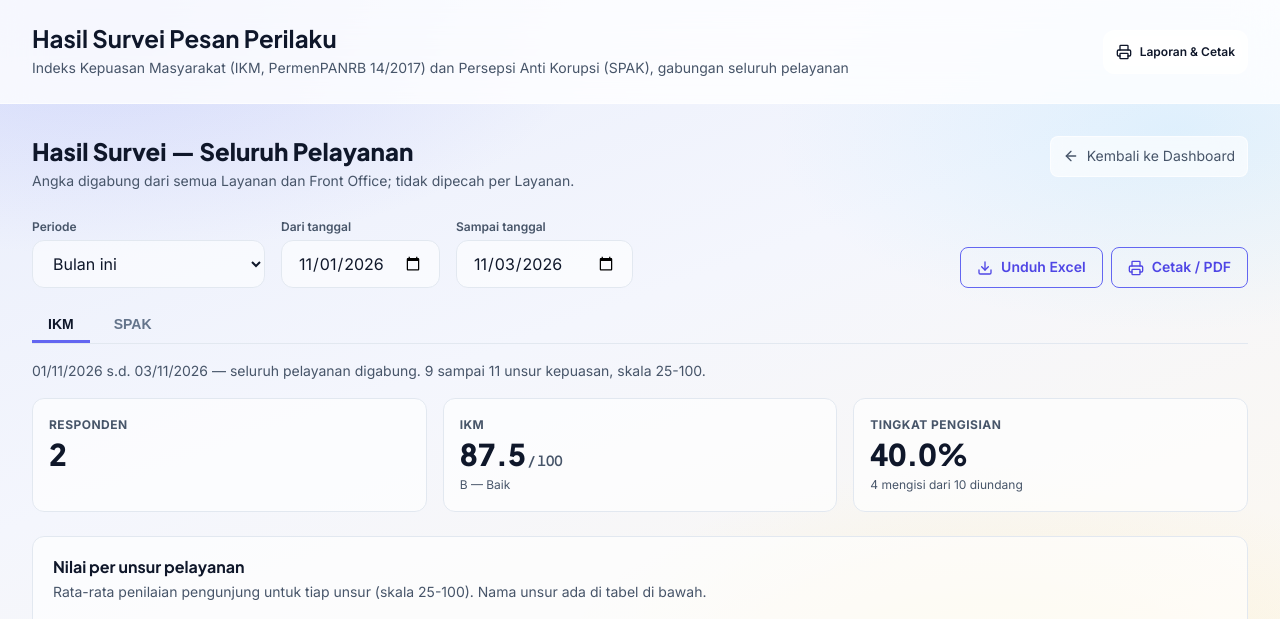
Test: Hasil Survei: admin dan Front Office (global) › tab SPAK: dashboard persen (setuju/netral/tidak setuju), indeks, dan tabel per pernyataan
The image size is (1280, 619).
Expected: the heading "Nilai per unsur pelayanan" is shown, [53,556,244,576]
Click the tab "SPAK": click(133, 325) [98,308,168,343]
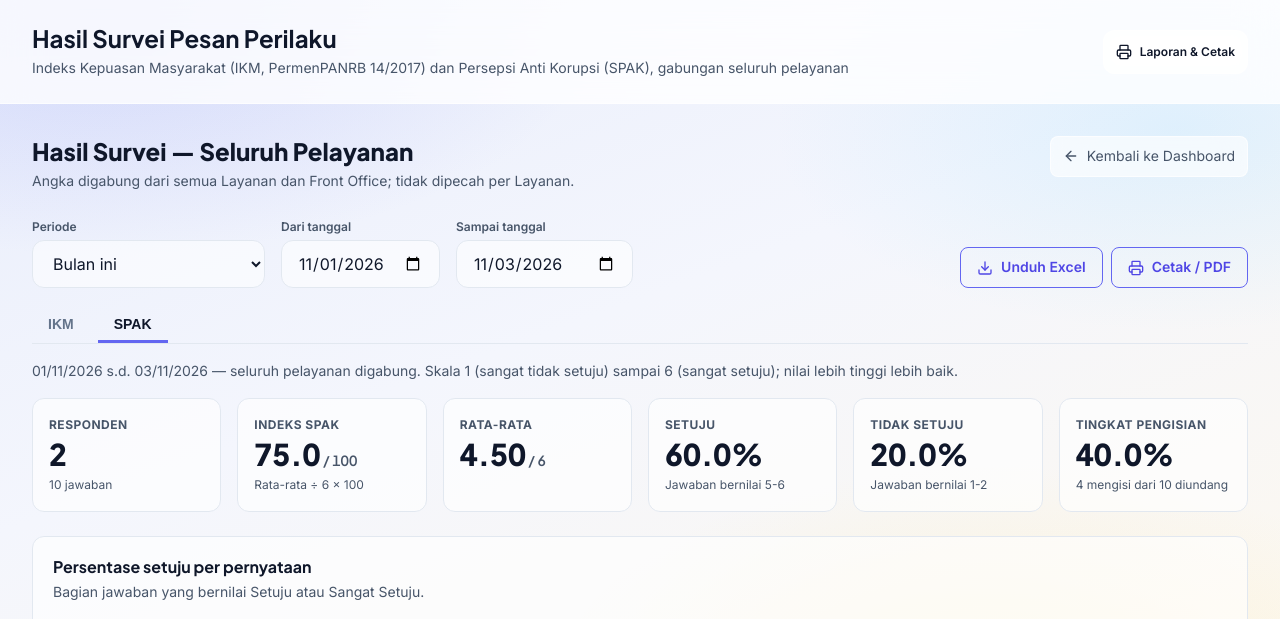
Result: the text "Indeks SPAK" is shown at [254,417,340,432]
Result: the text "75.0" is shown at [254,435,321,473]
Result: the text "60.0%" is shown at [665,435,763,473]
